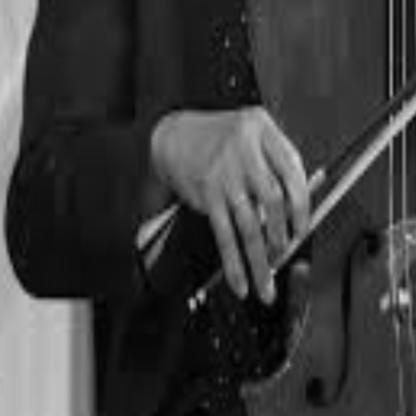good: (184, 109, 318, 311)
